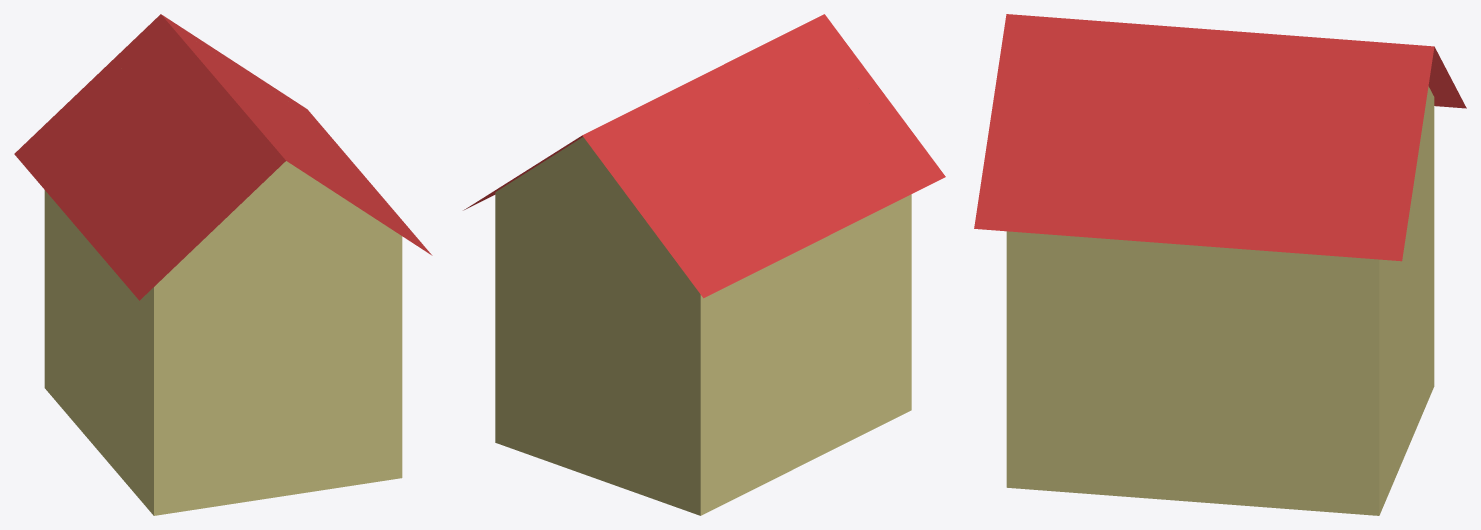
The picture shows the model from 3 angles, left to right: view 1: azimuth 30°, elevation 25°; view 2: azimuth 150°, elevation 25°; view 3: azimuth 270°, elevation 25°; orthographic projection. The views are drawn at different scales.
Bounding box in the file's own units: 11.67 × 13.13 × 11.96.
